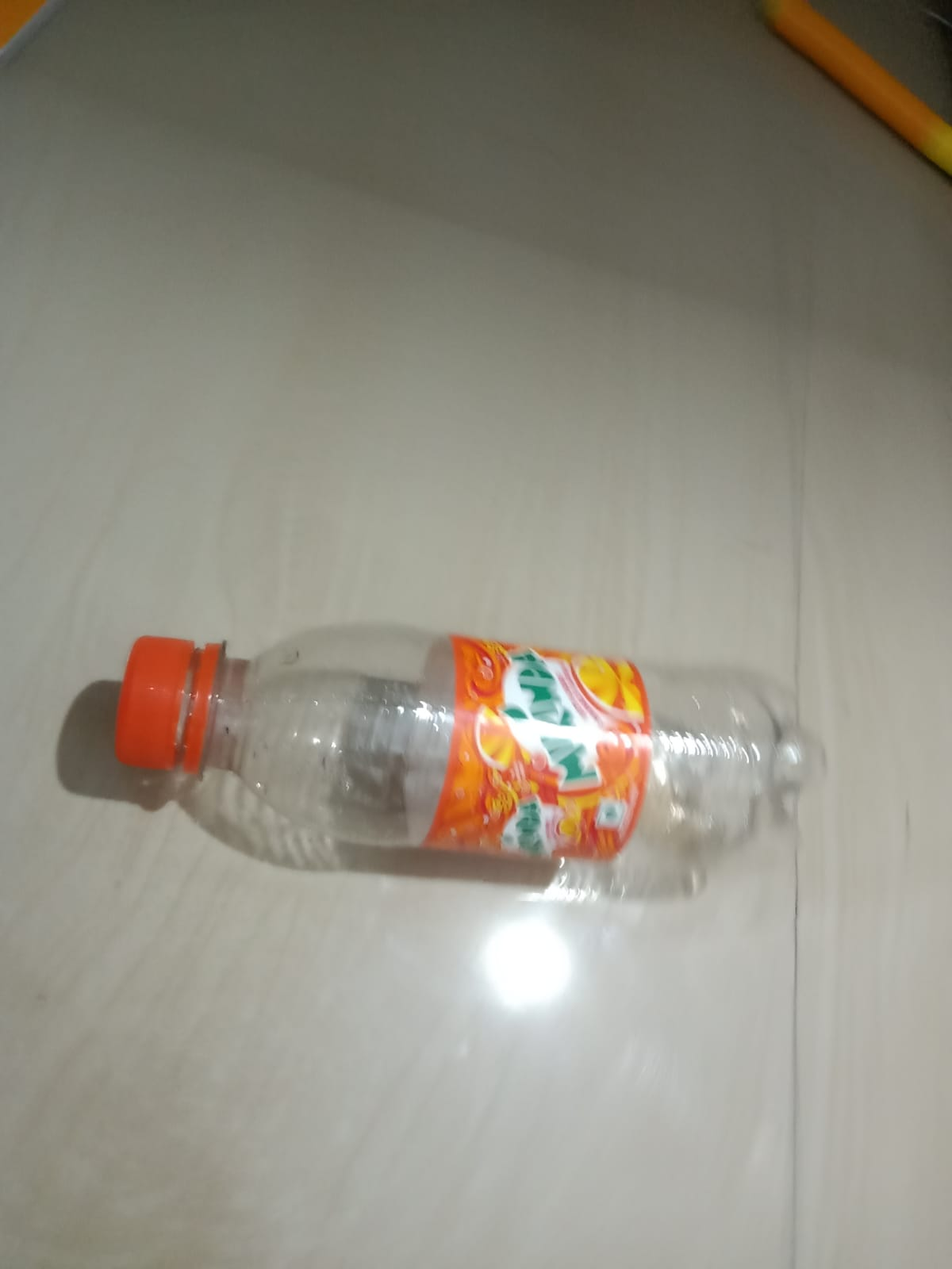plastic: (38, 495, 858, 990)
